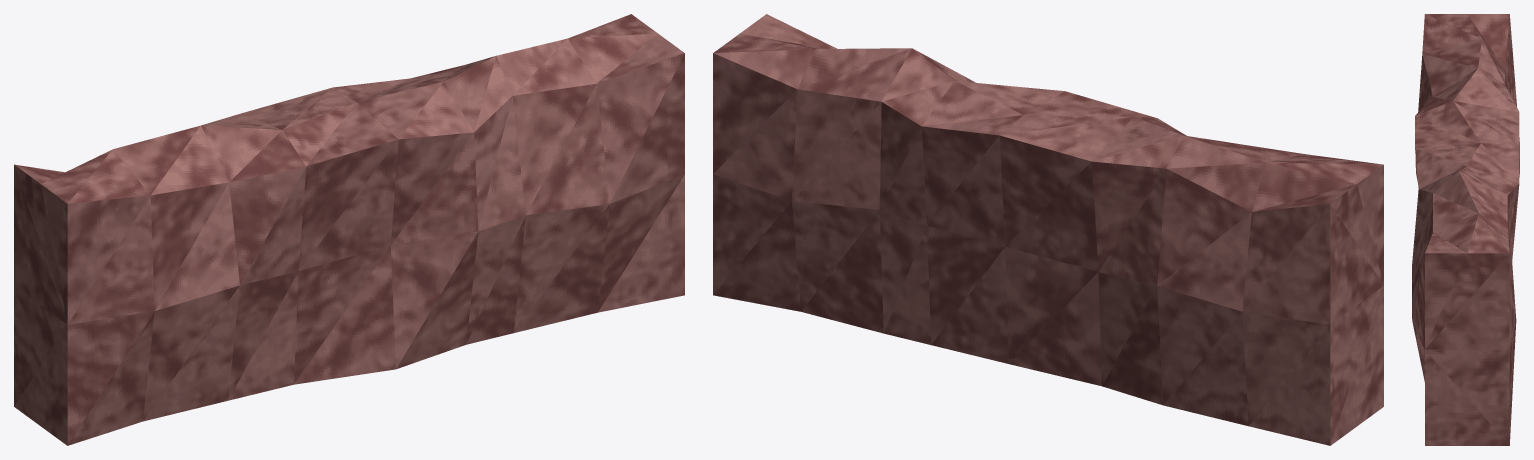
The model's file is rock_wall.glb.
The picture shows the model from 3 angles, left to right: view 1: azimuth 30°, elevation 25°; view 2: azimuth 150°, elevation 25°; view 3: azimuth 270°, elevation 25°; orthographic projection. The views are drawn at different scales.
Visible parts, largest first — view 1: RockWall; view 2: RockWall; view 3: RockWall.
Boxes of the visible parts, x1,y1,x2,y2 form: RockWall: (14,14,684,445); RockWall: (713,14,1383,445); RockWall: (1412,14,1519,445).
Size of what is drawn, in the model's own units: 8 by 3.28 by 1.52.
